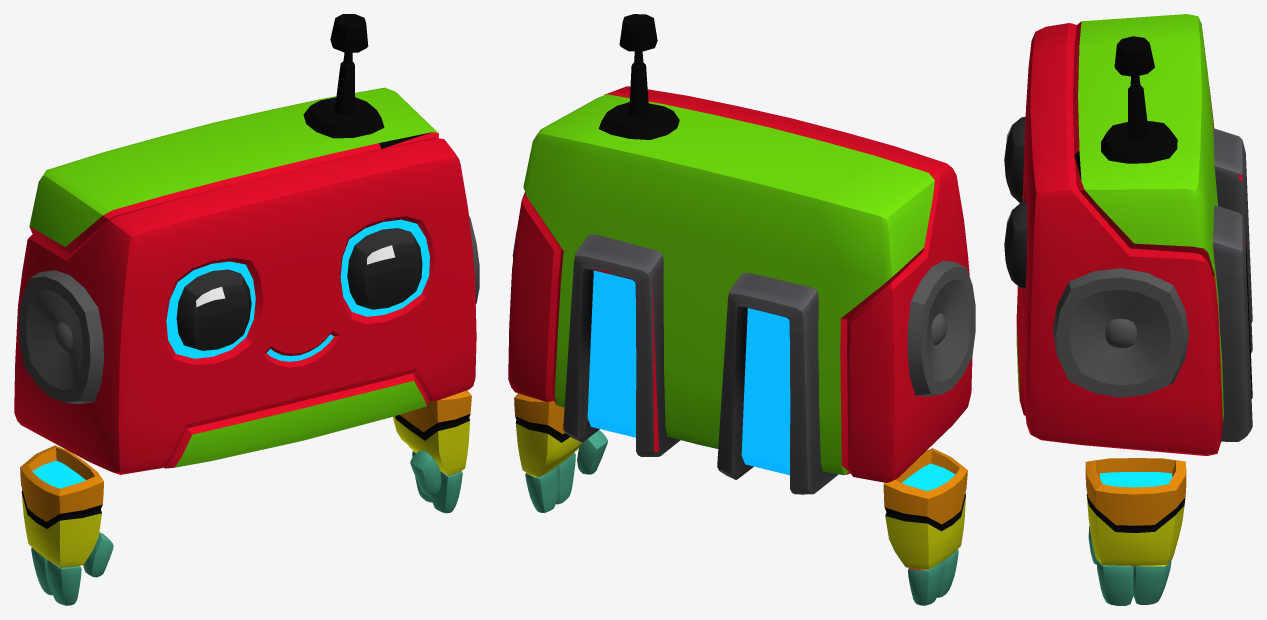
File: робот.glb
3 renders of one model, left to right at view 1: azimuth 30°, elevation 25°; view 2: azimuth 150°, elevation 25°; view 3: azimuth 270°, elevation 25°, orthographic. The views are drawn at different scales.
Visible parts, largest first — view 1: Object_21.011, Object_21.009, Object_21.005, Object_21.008, Object_22, Object_21.002, Object_21.004, Object_21.006, Object_21.001, Object_21.003, Object_21.007; view 2: Object_21.009, Object_21.011, Object_21.010, Object_22, Object_21.005, Object_21.004, Object_21.002, Object_21.006, Object_21.001, Object_21.003, Object_21.008; view 3: Object_21.011, Object_21.009, Object_21.005, Object_21.010, Object_21.002, Object_21.006, Object_21.004, Object_21.008, Object_21.001, Object_21.003, Object_22.
Boxes of the visible parts, x1,y1,x2,y2 form: Object_21.011: (14, 132, 476, 474); Object_21.009: (29, 87, 438, 467); Object_21.005: (18, 216, 479, 403); Object_21.008: (176, 228, 422, 350); Object_22: (32, 219, 429, 488); Object_21.002: (20, 390, 471, 521); Object_21.004: (21, 416, 469, 567); Object_21.006: (303, 14, 431, 148); Object_21.001: (31, 450, 462, 605); Object_21.003: (21, 414, 470, 528); Object_21.007: (196, 245, 394, 307); Object_21.009: (523, 94, 934, 475); Object_21.011: (508, 86, 972, 570); Object_21.010: (563, 234, 838, 494); Object_22: (587, 270, 955, 490); Object_21.005: (512, 230, 975, 396); Object_21.004: (515, 423, 965, 569); Object_21.002: (514, 393, 967, 524); Object_21.006: (598, 14, 679, 139); Object_21.001: (525, 430, 958, 605); Object_21.003: (515, 416, 965, 531); Object_21.008: (583, 269, 593, 437); Object_21.011: (1016, 21, 1245, 455); Object_21.009: (1016, 14, 1223, 421); Object_21.005: (1053, 268, 1189, 397); Object_21.010: (1213, 128, 1252, 441); Object_21.002: (1085, 458, 1186, 525); Object_21.006: (1074, 36, 1177, 179); Object_21.004: (1087, 497, 1184, 566); Object_21.008: (1004, 116, 1027, 288); Object_21.001: (1088, 525, 1171, 605); Object_21.003: (1086, 237, 1252, 532); Object_22: (1099, 472, 1172, 487).
Size of the model in its own units: 32.6 by 37.45 by 16.24.
Materials: 10 (1 with a texture image).
